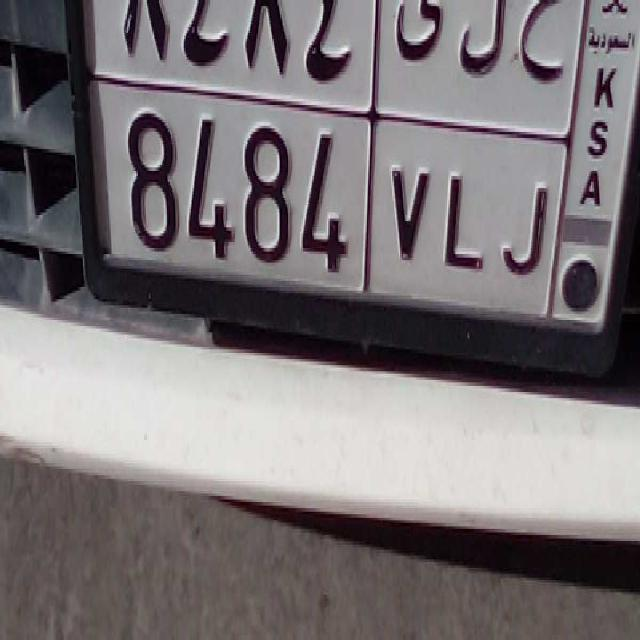license_plate: (108, 87, 558, 332)
